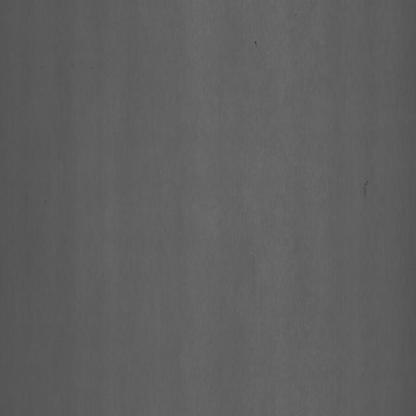inclusion: (360, 173, 376, 207), (249, 29, 266, 61)
